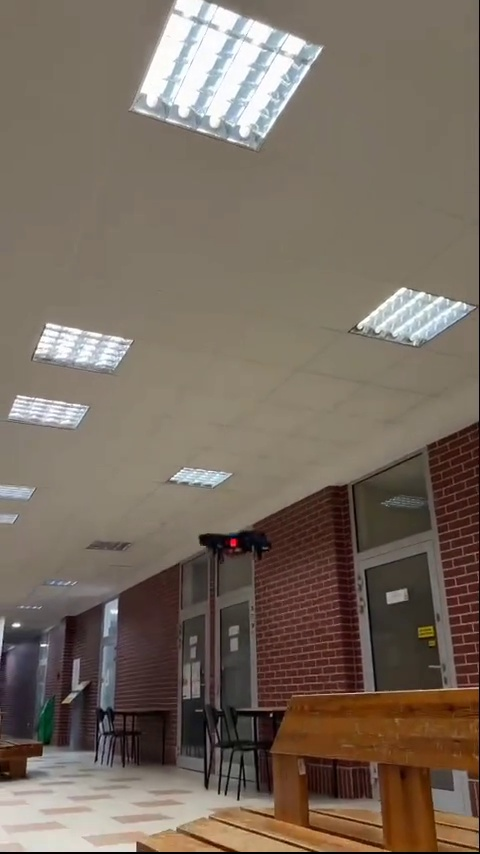drone: (197, 530, 277, 562)
